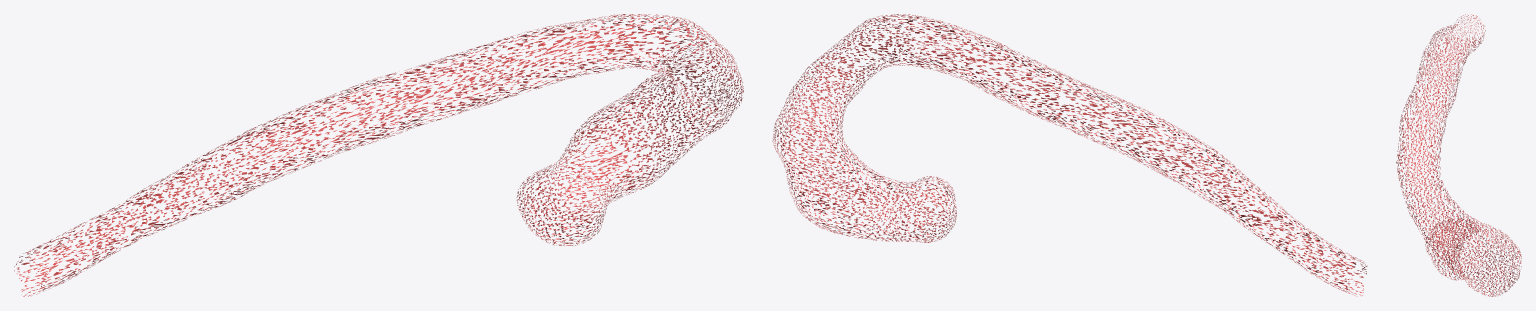
The model's file is aorta.glb.
3 renders of one model, left to right at view 1: azimuth 30°, elevation 25°; view 2: azimuth 150°, elevation 25°; view 3: azimuth 270°, elevation 25°, orthographic. The views are drawn at different scales.
Bounding box in the file's own units: 301 × 98.68 × 65.88.
